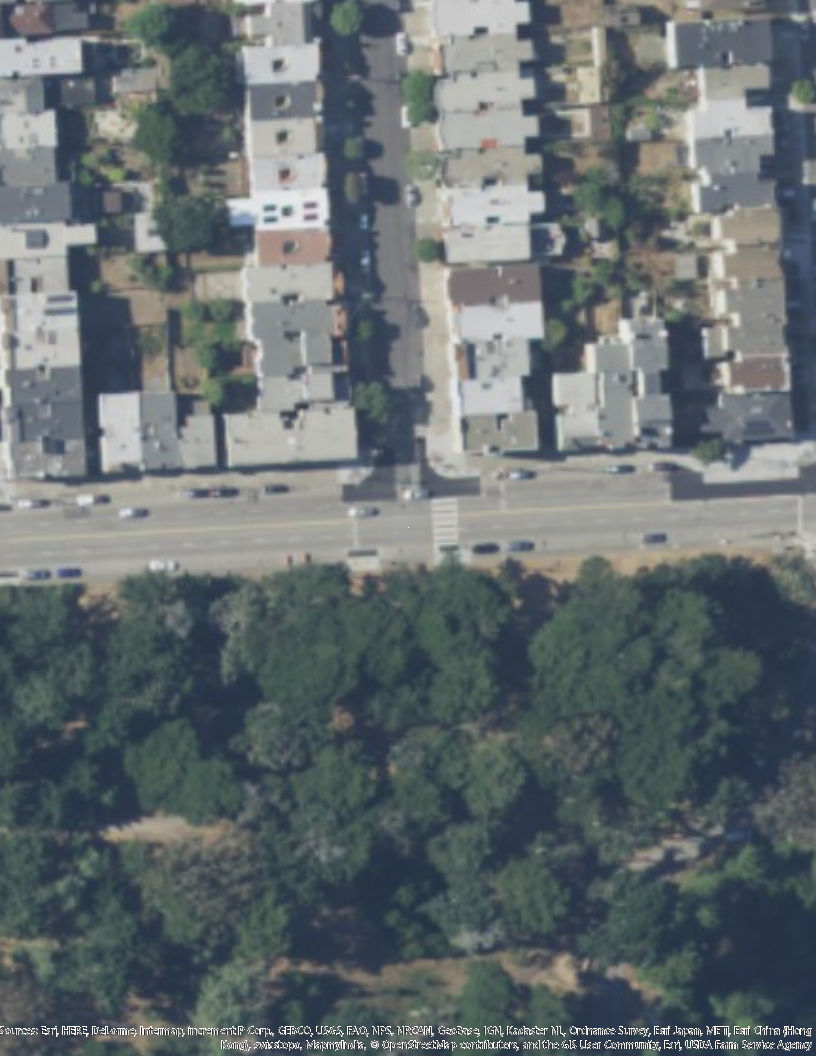zebracross: (429, 494, 462, 547)
